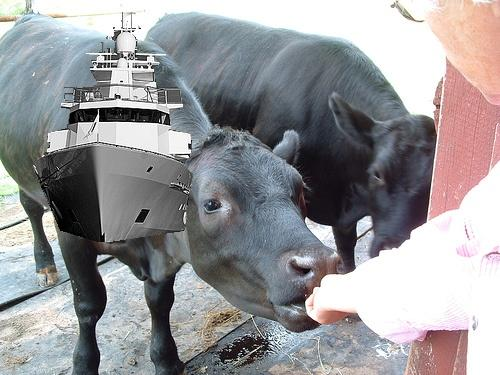tampered: (33, 13, 193, 242)
